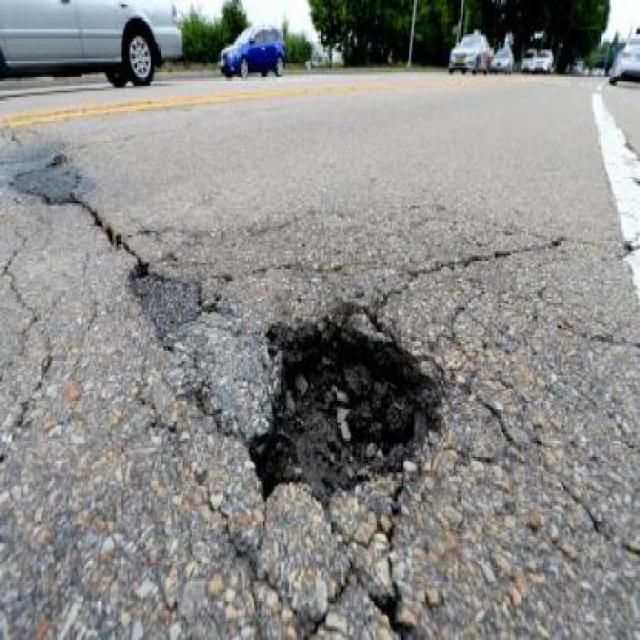pothole: (242, 282, 448, 516)
